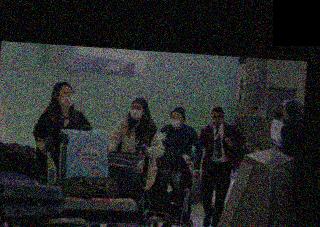with_mask: (58, 86, 76, 106), (129, 103, 144, 119), (170, 112, 182, 128)
without_mask: (212, 112, 223, 124), (276, 105, 284, 113)
